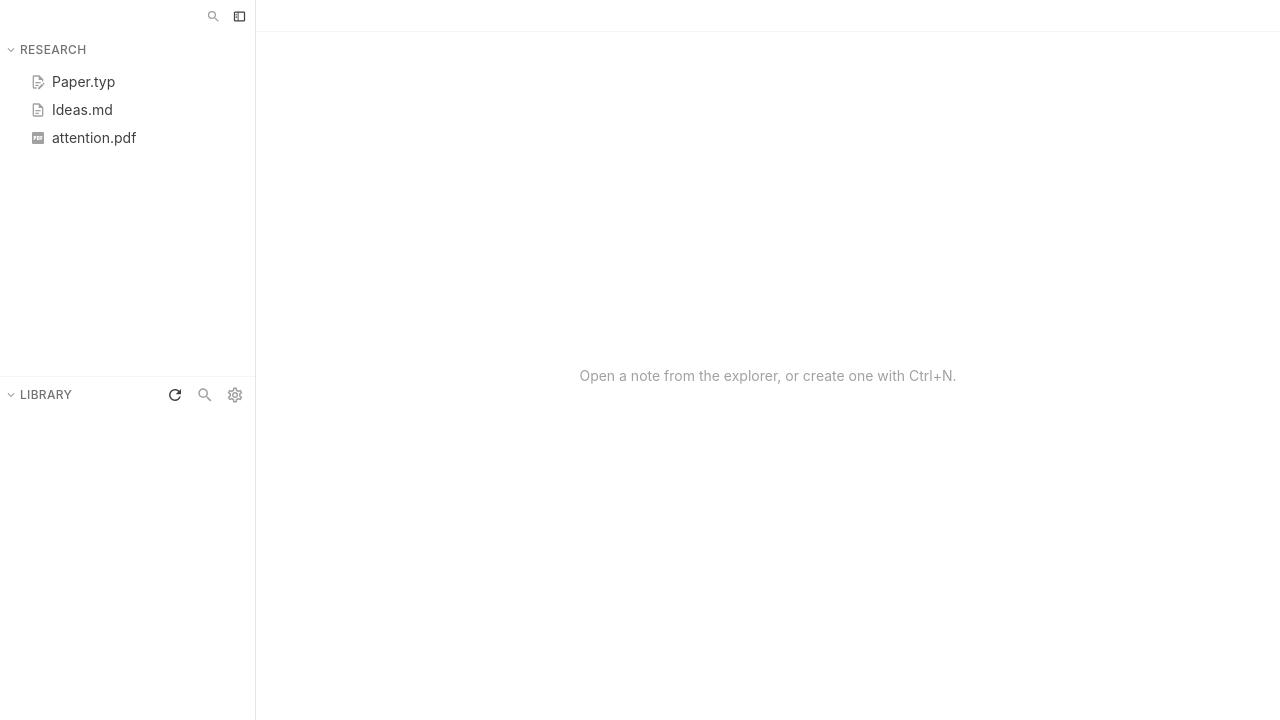
Test: Renaming a file from the explorer › right-click › Rename does the same
Expected: the text "Paper.typ" is shown, [52,72,115,92]
Right-click the button "Ideas.md" at (128, 110), box [6,96,249,124]
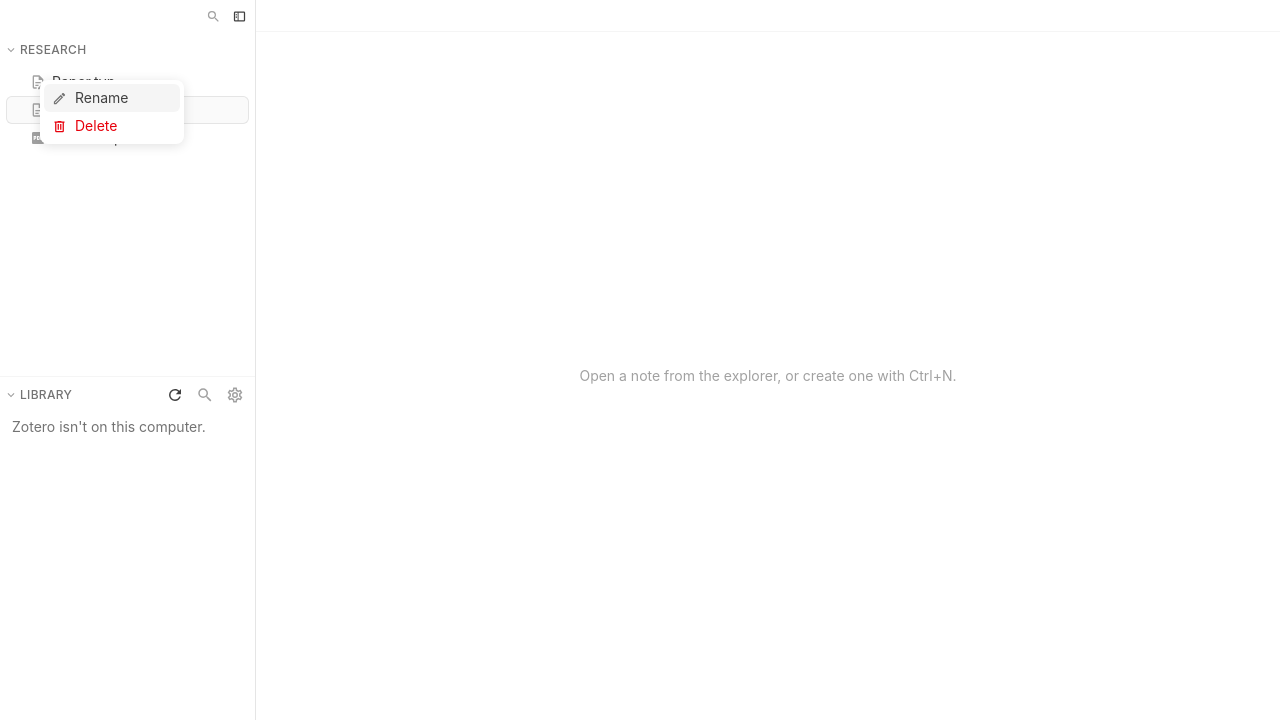
Click the menu item "Rename" at (112, 98), box [44,84,180,112]
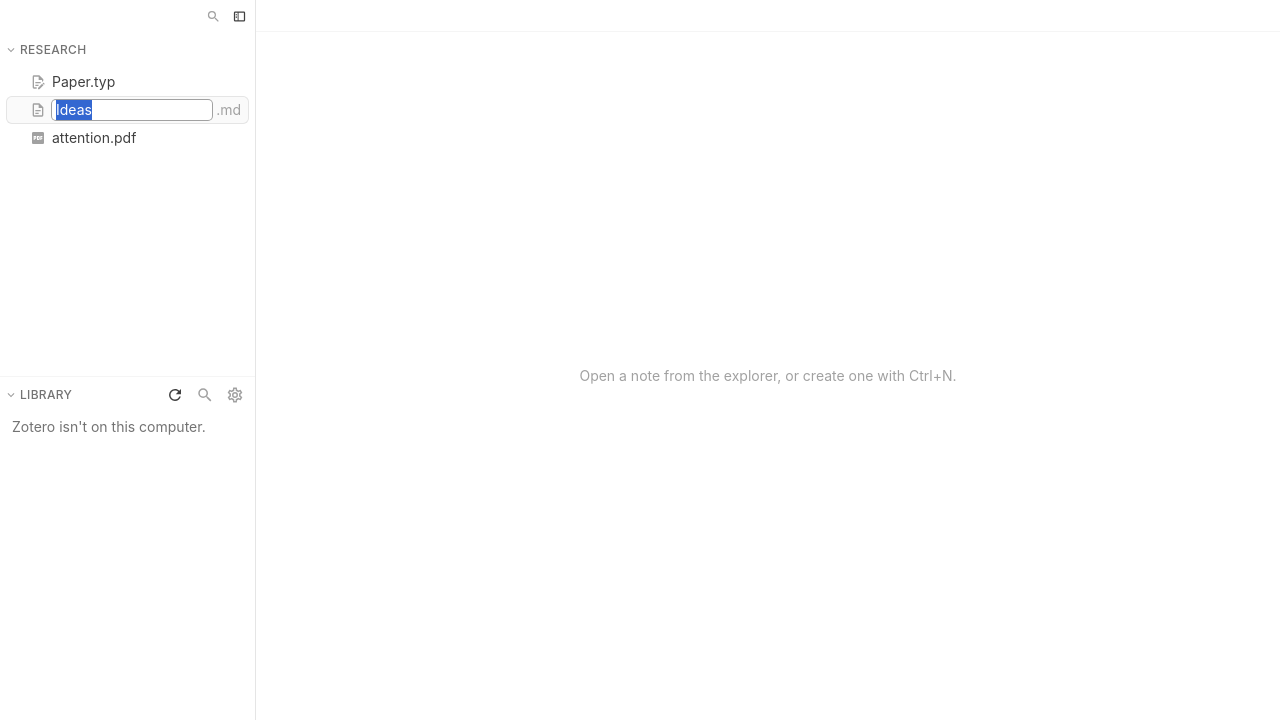
Type keys "Plans{Enter}"
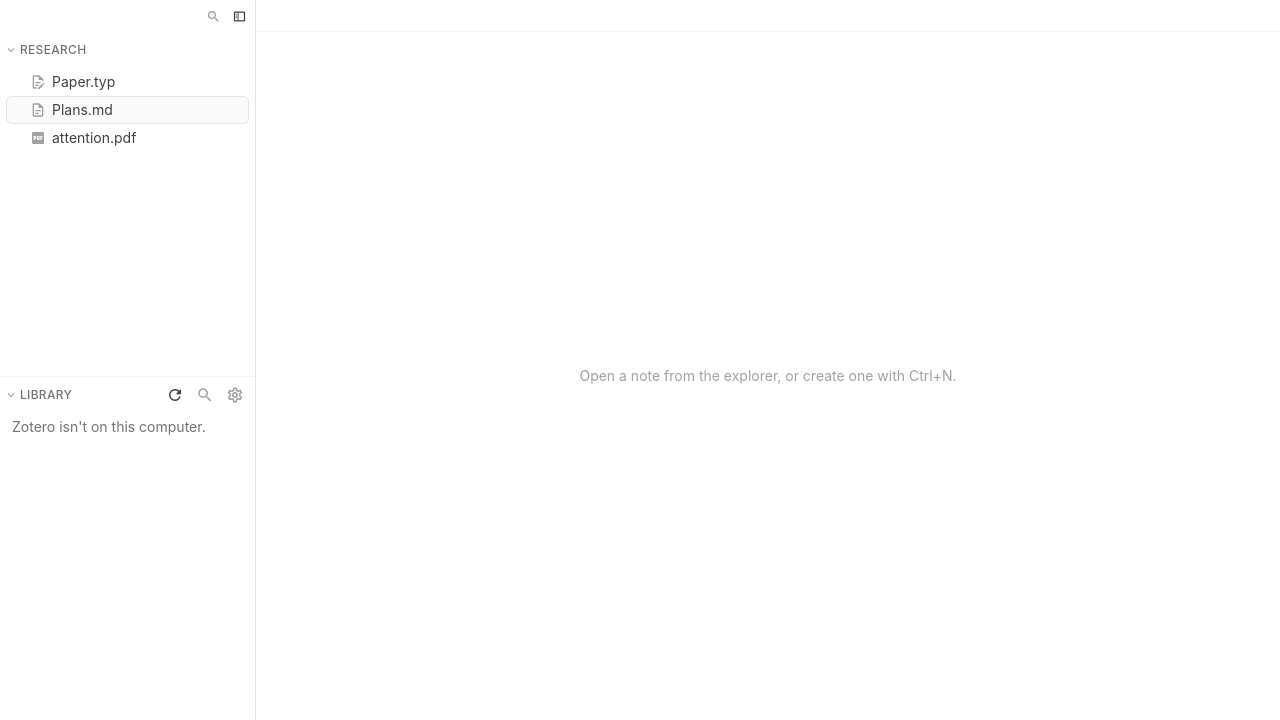
Expected: the text "Plans.md" is shown, [52,100,113,120]
